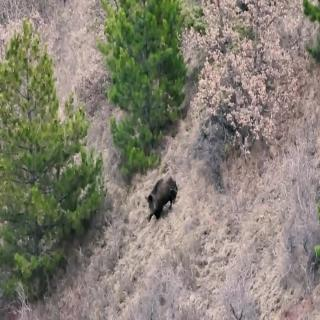Pig: (144, 167, 176, 229)
